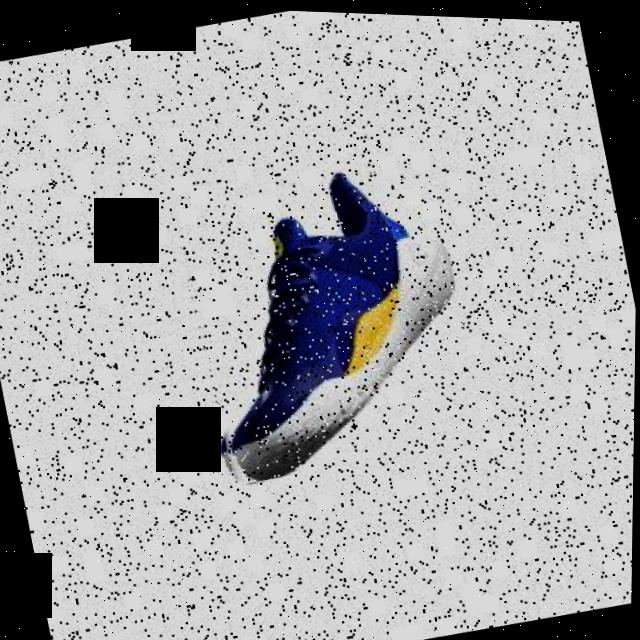shoe: (164, 146, 490, 492)
